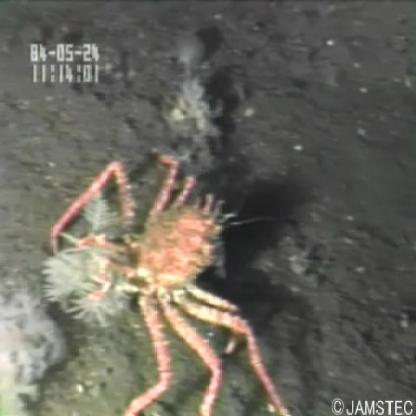Bio: (34, 147, 291, 416)
